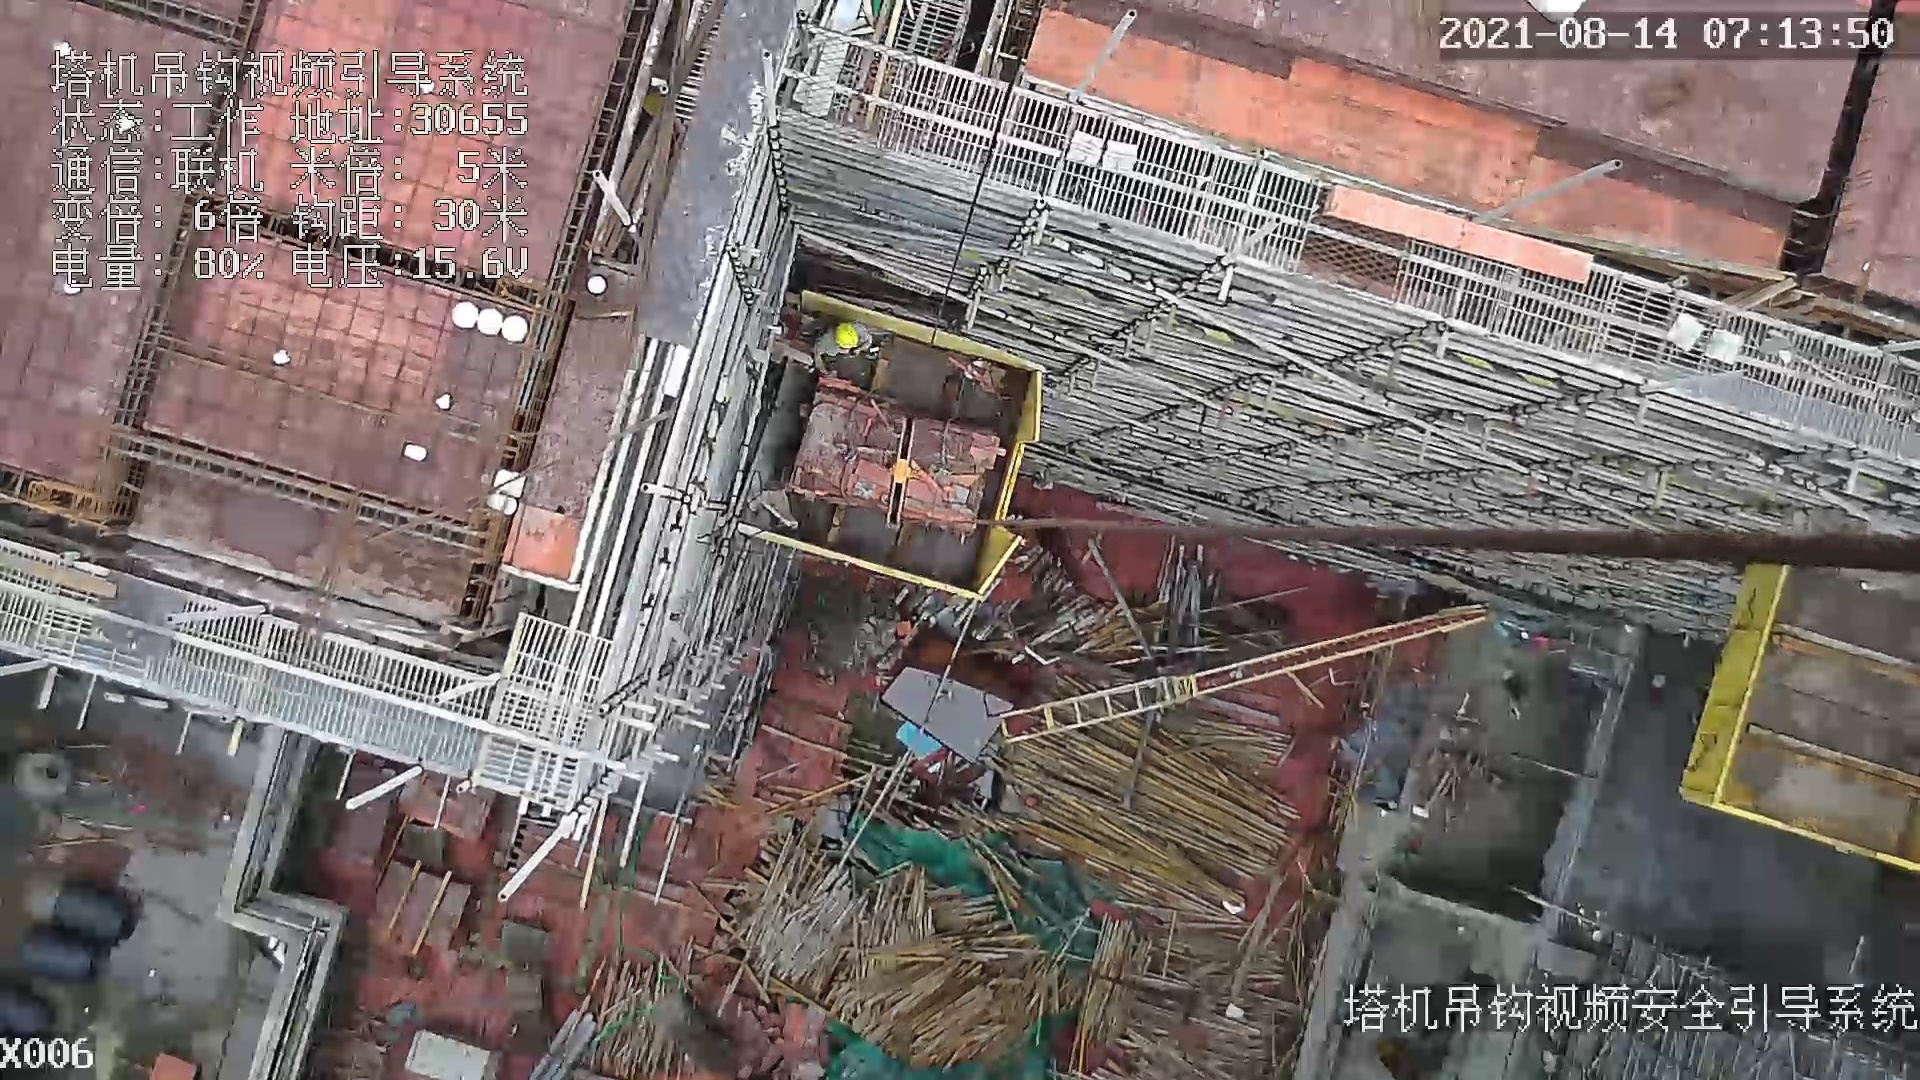helmet: (830, 320, 862, 350)
hook: (877, 408, 919, 533)
person: (799, 318, 885, 369)
